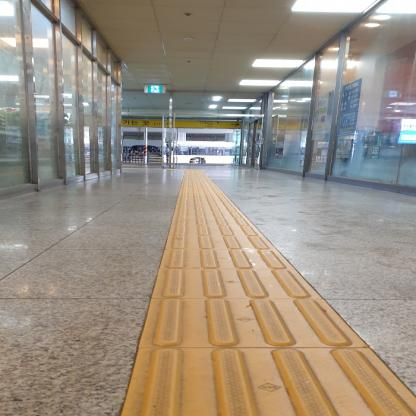go: (119, 347, 415, 416), (137, 297, 369, 348), (151, 268, 324, 299), (159, 249, 295, 269)
